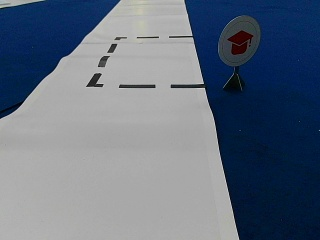school: (217, 14, 259, 66)
